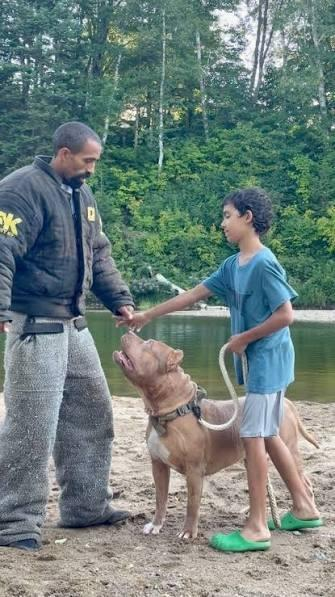adult_dog: (112, 331, 333, 539)
non-dog: (114, 184, 325, 554), (0, 118, 136, 553)
